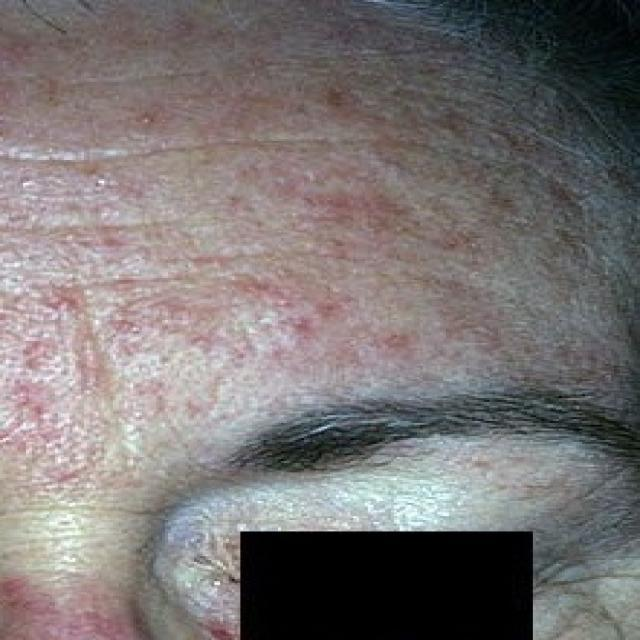Rosacea: (9, 82, 526, 416), (0, 572, 139, 640)
